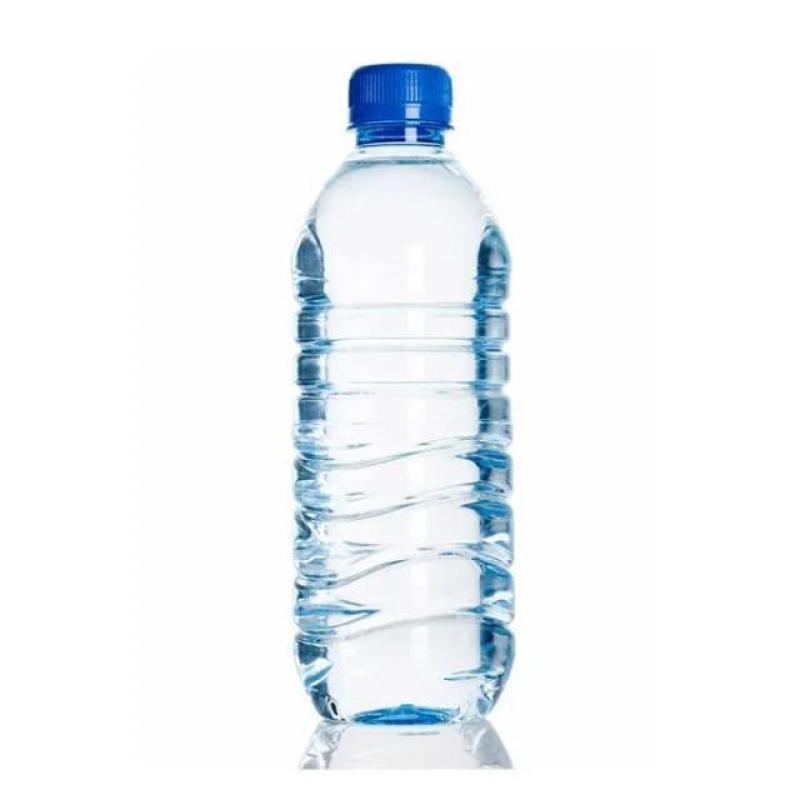botella: (290, 64, 516, 728)
